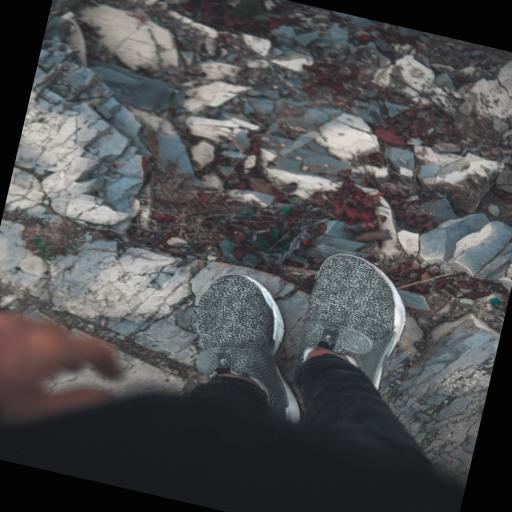shoe: (197, 275, 300, 423), (300, 254, 405, 389)
